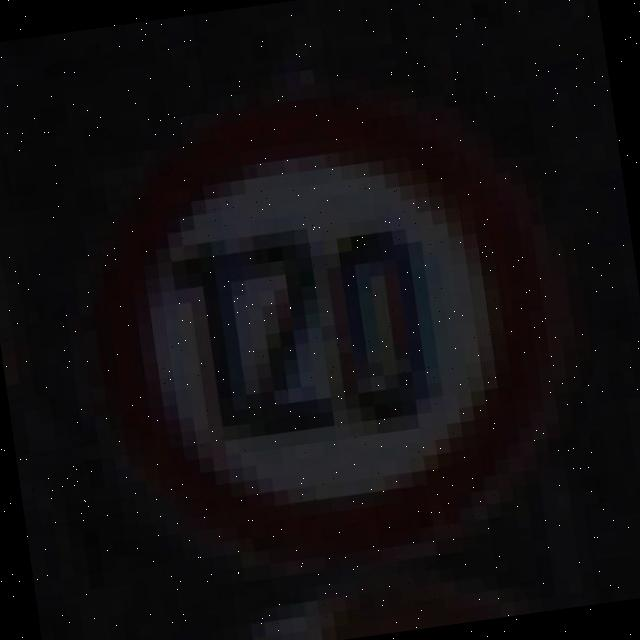Ograniczenie predkosci do 120: (70, 68, 582, 594)
